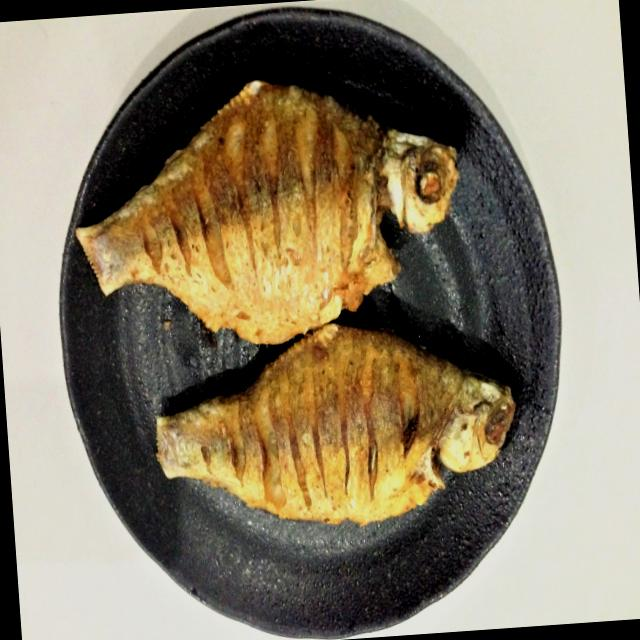ca chien: (76, 81, 457, 343), (156, 324, 515, 524)
